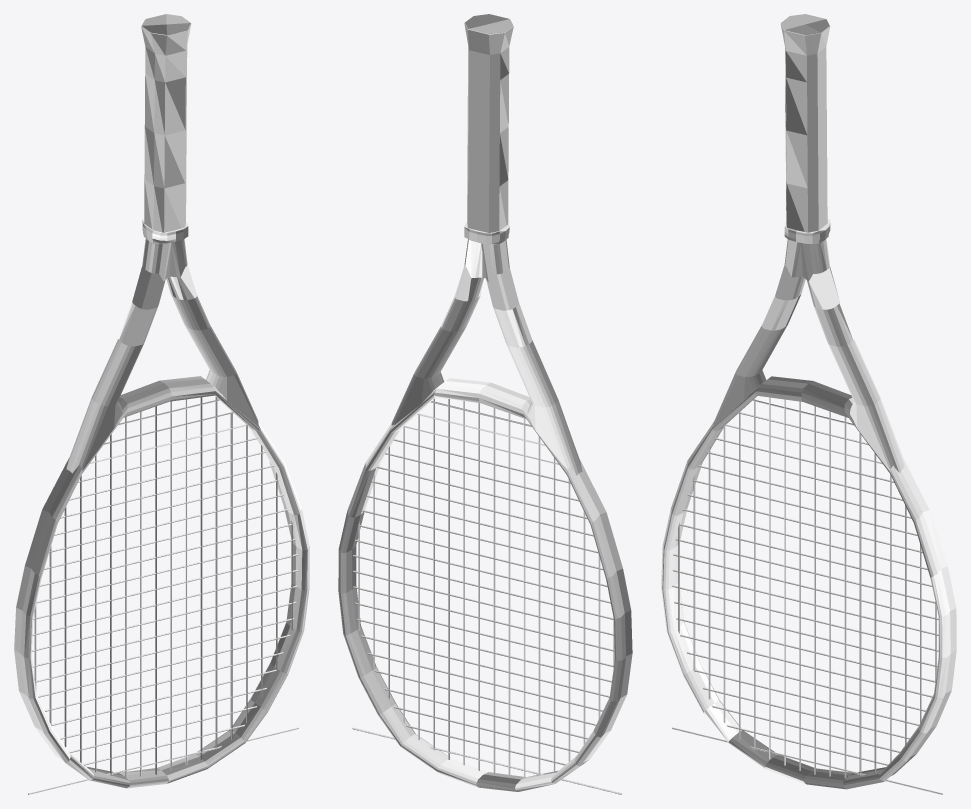
The model's file is raqueta.obj.
3 views of the same model, side by side, from view 1: azimuth 30°, elevation 25°; view 2: azimuth 150°, elevation 25°; view 3: azimuth 330°, elevation 25° (orthographic).
Parts seen in each view (by area): view 1: frame, Cylinder_10, Cylinder_11, Cylinder_12, Cylinder_13, Cylinder_8, Cylinder_9, Cylinder_7, Cylinder_6, Cylinder_2, Cylinder_5, Cylinder_4 (+14 smaller); view 2: frame, Cylinder_8, Cylinder_7, Cylinder_6, Cylinder_5, Cylinder_4, Cylinder_3, Cylinder_9, Cylinder_10, Cylinder_11, Cylinder_12, Cylinder_2 (+13 smaller); view 3: frame, Cylinder_11, Cylinder_12, Cylinder_13, Cylinder_3, Cylinder_10, Cylinder_9, Cylinder_8, Cylinder_2, Cylinder_7, Cylinder_6, Cylinder_5 (+15 smaller).
Boxes of the visible parts, x1,y1,x2,y2 form: frame: (14,14,309,788); Cylinder_10: (185,399,187,765); Cylinder_11: (200,397,202,759); Cylinder_12: (215,397,217,750); Cylinder_13: (230,411,232,739); Cylinder_8: (155,406,156,774); Cylinder_9: (170,401,171,770); Cylinder_7: (140,411,141,776); Cylinder_6: (125,417,126,777); Cylinder_2: (64,507,66,747); Cylinder_5: (110,434,111,775); Cylinder_4: (95,454,96,772); frame: (338,14,632,791); Cylinder_8: (493,408,495,774); Cylinder_7: (508,413,510,776); Cylinder_6: (523,418,525,777); Cylinder_5: (538,436,540,775); Cylinder_4: (553,457,555,772); Cylinder_3: (568,479,570,761); Cylinder_9: (478,403,479,770); Cylinder_10: (463,401,464,765); Cylinder_11: (448,399,449,759); Cylinder_12: (433,398,434,750); Cylinder_2: (583,511,585,744); frame: (661,14,956,789); Cylinder_11: (844,417,846,778); Cylinder_12: (859,433,861,775); Cylinder_13: (874,453,876,772); Cylinder_3: (723,426,725,722); Cylinder_10: (829,411,830,776); Cylinder_9: (814,406,815,774); Cylinder_8: (799,401,800,770); Cylinder_2: (708,447,710,699); Cylinder_7: (784,399,785,765); Cylinder_6: (769,397,770,759); Cylinder_5: (754,398,755,749).
Size of the model in its own units: 0.2854 by 0.7261 by 0.0404.
